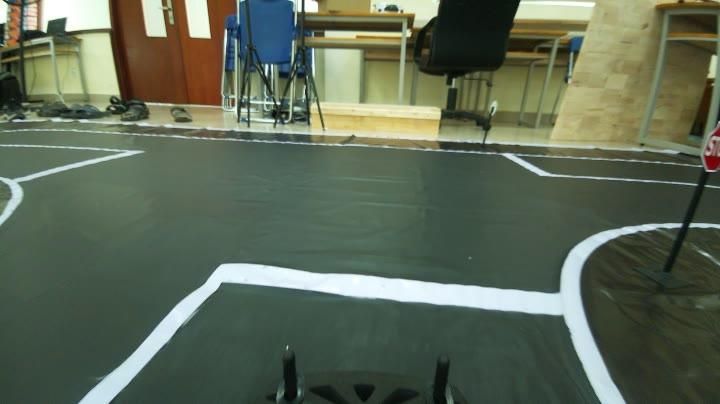stop: (704, 121, 720, 175)
